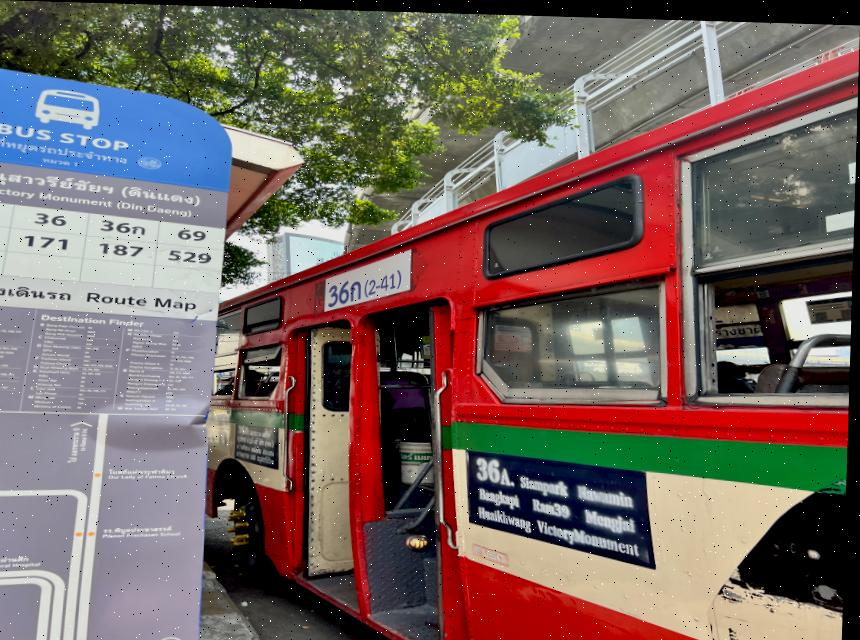BMTA-bus: (212, 19, 860, 640)
